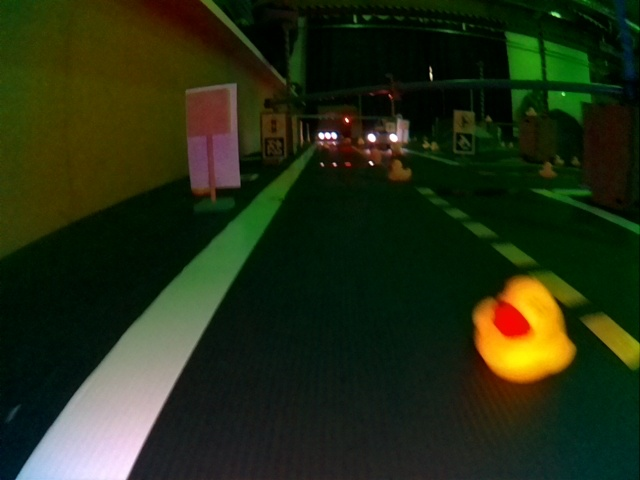Duckie: (475, 279, 571, 376), (393, 160, 410, 181), (540, 162, 557, 178)
Intersection sign: (455, 113, 471, 128)
QR code: (265, 137, 285, 154), (456, 133, 471, 151)
Signal sign: (263, 116, 283, 132)
